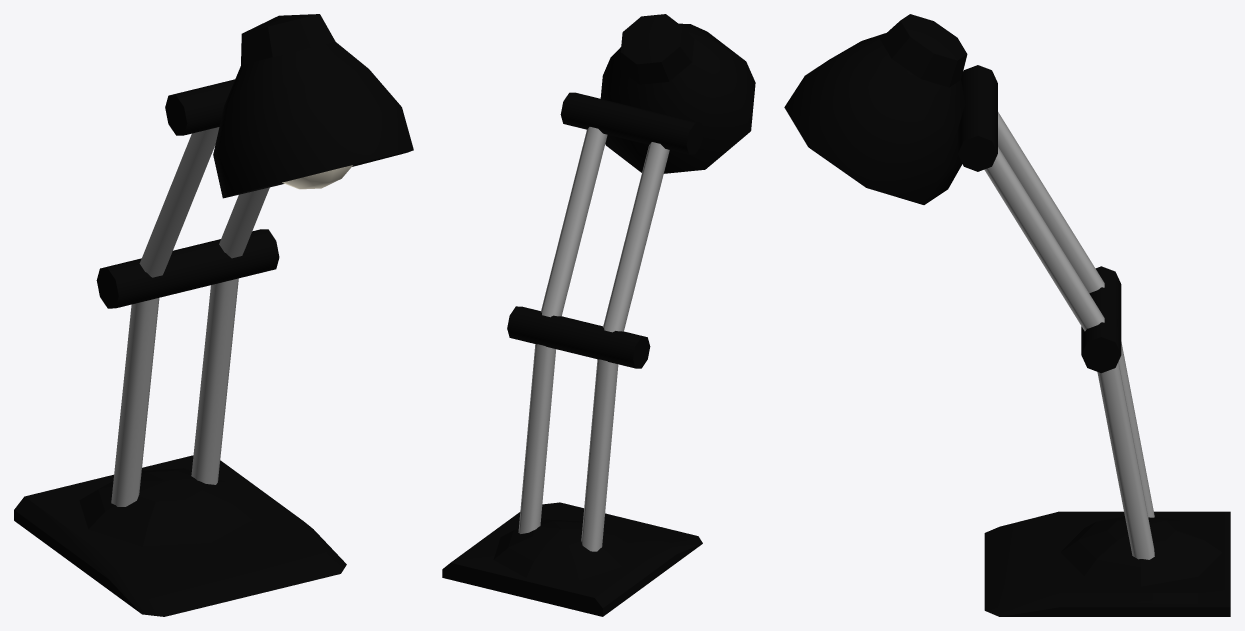
File: SM_DeskLamp.fbx
3 views of the same model, side by side, from view 1: azimuth 30°, elevation 25°; view 2: azimuth 150°, elevation 25°; view 3: azimuth 270°, elevation 25° (orthographic). The views are drawn at different scales.
Visible parts, largest first — view 1: SM_DeskLamp; view 2: SM_DeskLamp; view 3: SM_DeskLamp.
Boxes of the visible parts, x1=… form: SM_DeskLamp: x1=14, y1=14, x2=413, y2=616; SM_DeskLamp: x1=442, y1=14, x2=755, y2=616; SM_DeskLamp: x1=784, y1=14, x2=1230, y2=616.
Bounding box in the file's own units: 0.2098 × 0.5976 × 0.4385.
